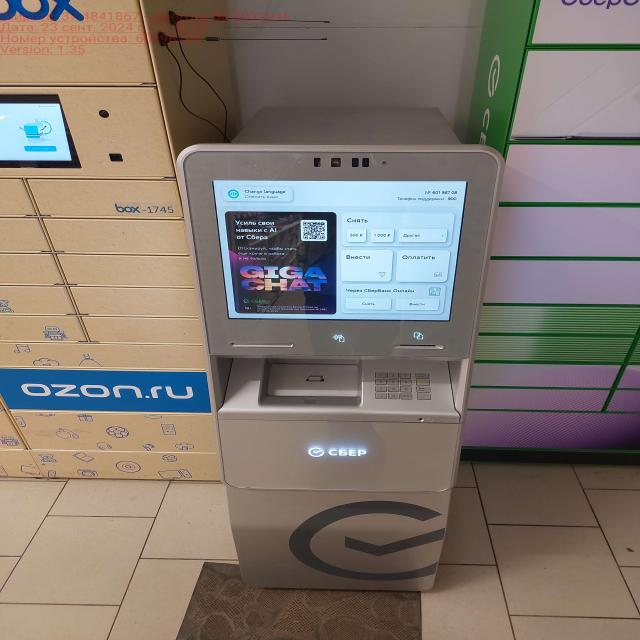bank: (175, 100, 507, 590)
